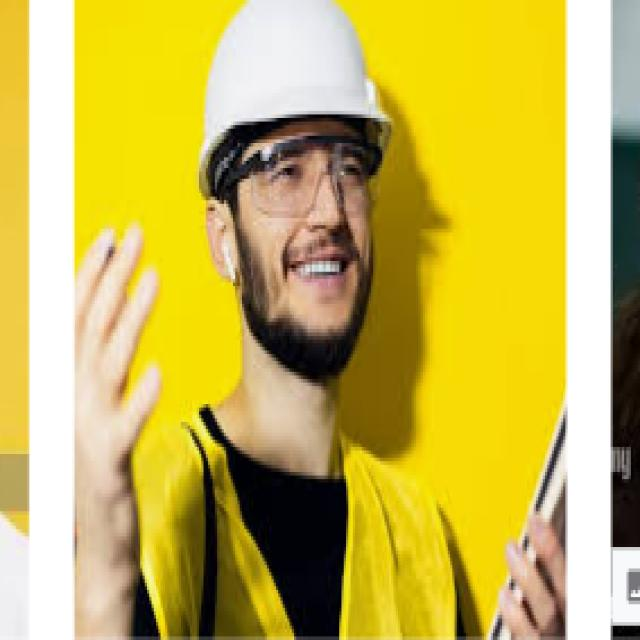glasses: (209, 145, 394, 218)
